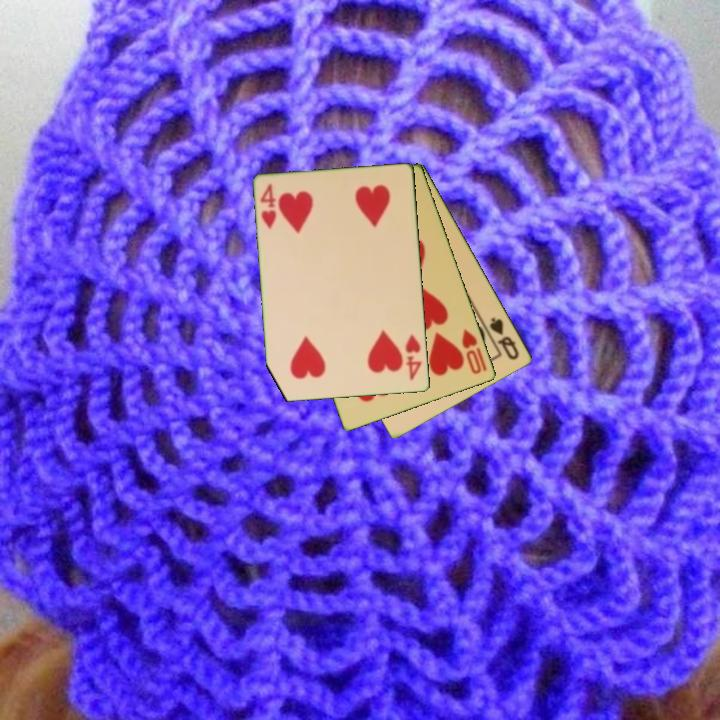10h: (459, 325, 485, 377)
4h: (402, 331, 425, 384), (257, 180, 279, 231)
Qs: (486, 313, 522, 363)
